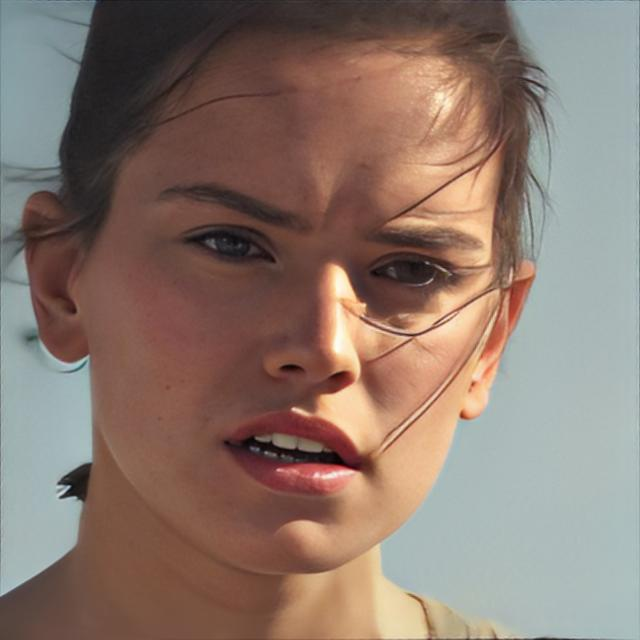disgust: (94, 27, 503, 574)
